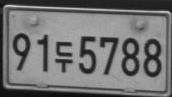1: (35, 33, 54, 72)
5: (77, 35, 97, 75)
7: (99, 36, 120, 75)
8: (120, 36, 140, 76), (142, 37, 162, 77)
9: (11, 31, 31, 71)
두: (54, 41, 73, 73)
